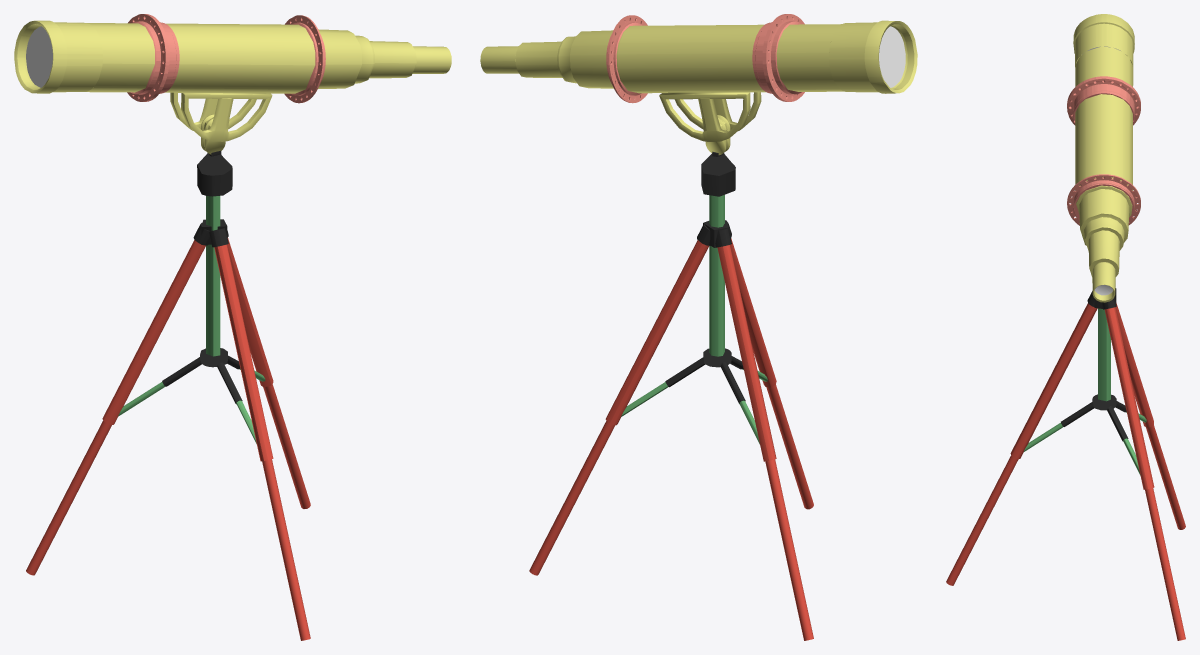
Rendered from Telescope.fbx.
3 views of the same model, side by side, from view 1: azimuth 30°, elevation 25°; view 2: azimuth 150°, elevation 25°; view 3: azimuth 270°, elevation 25° (orthographic). The views are drawn at different scales.
Visible parts, largest first — view 1: polySurface2, polySurface1, polySurface151, polySurface163, polySurface170, polySurface169, polySurface148, polySurface168, polySurface161, polySurface154, polySurface145, polySurface158 (+3 smaller); view 2: polySurface2, polySurface1, polySurface163, polySurface154, polySurface170, polySurface128, polySurface148, polySurface161, polySurface145, polySurface151, polySurface168, polySurface158 (+3 smaller); view 3: polySurface2, polySurface154, polySurface1, polySurface151, polySurface170, polySurface145, polySurface16, polySurface168, polySurface148, polySurface163, polySurface161, polySurface123.
Part boxes in pixels (x1,y1,x2,y2): polySurface2: (87,23,416,93); polySurface1: (14,20,102,93); polySurface151: (214,244,273,461); polySurface163: (102,240,205,424); polySurface170: (127,14,179,101); polySurface169: (181,93,272,141); polySurface148: (206,196,220,356); polySurface168: (262,459,310,640); polySurface161: (26,421,111,575); polySurface154: (227,238,273,387); polySurface145: (263,384,310,508); polySurface158: (197,150,232,196); polySurface2: (515,24,843,93); polySurface1: (829,20,917,93); polySurface163: (717,245,776,461); polySurface154: (605,240,708,425); polySurface170: (752,14,804,101); polySurface128: (659,92,750,141); polySurface148: (709,194,724,356); polySurface161: (765,459,813,640); polySurface145: (529,420,614,575); polySurface151: (730,238,776,387); polySurface168: (766,384,813,509); polySurface158: (701,151,735,196); polySurface2: (1075,46,1133,276); polySurface154: (1104,307,1154,489); polySurface1: (1073,14,1134,66); polySurface151: (1010,303,1097,459); polySurface170: (1067,76,1140,125); polySurface145: (1145,488,1185,640); polySurface16: (1067,174,1140,225); polySurface168: (946,455,1018,585); polySurface148: (1098,308,1110,401); polySurface163: (1115,303,1153,427); polySurface161: (1146,425,1185,529); polySurface123: (1092,262,1115,302).
Size of the model in its own units: 191 by 258 by 112.
